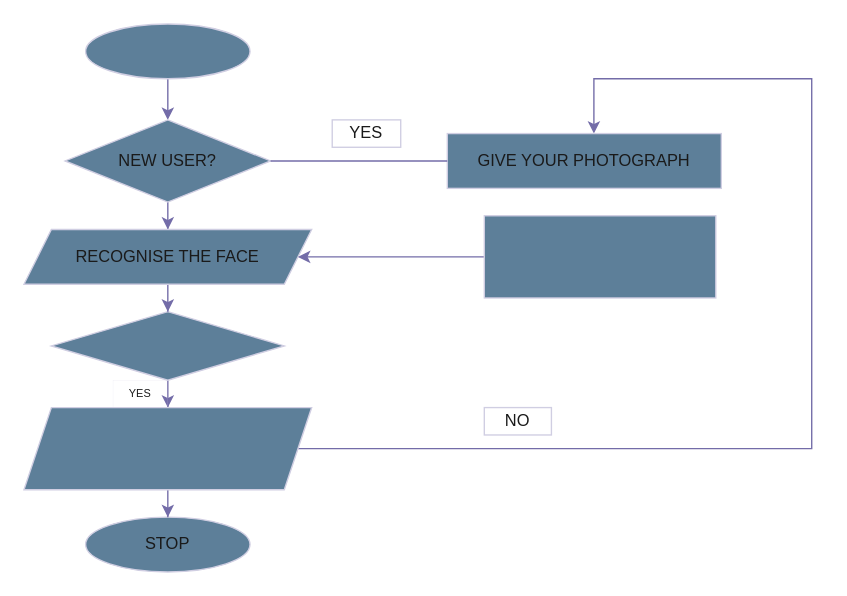
This 847x596 diagram has some shape labels left out. Each missing label, with the centre of its shape:
"FACE RECOGNIZED" goes at (x=167, y=345).
"START" goes at (x=167, y=51).
"STORE THE FACE DATA IN FOLDER ON YOUR NAME" goes at (x=599, y=256).
"STORED IN CSV FILE WITH REGISTRATION NUMBER AND DATE, TIME OF ENTRY" goes at (x=167, y=448).
